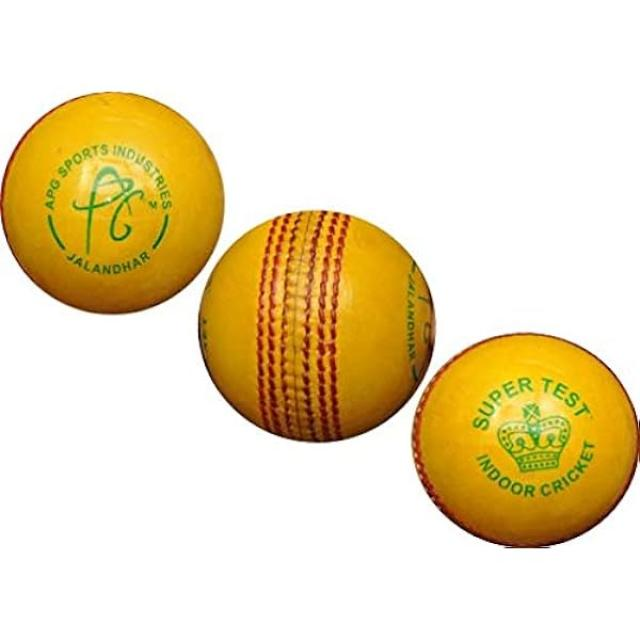ball: (196, 211, 441, 442), (1, 86, 226, 328), (413, 332, 640, 549)
